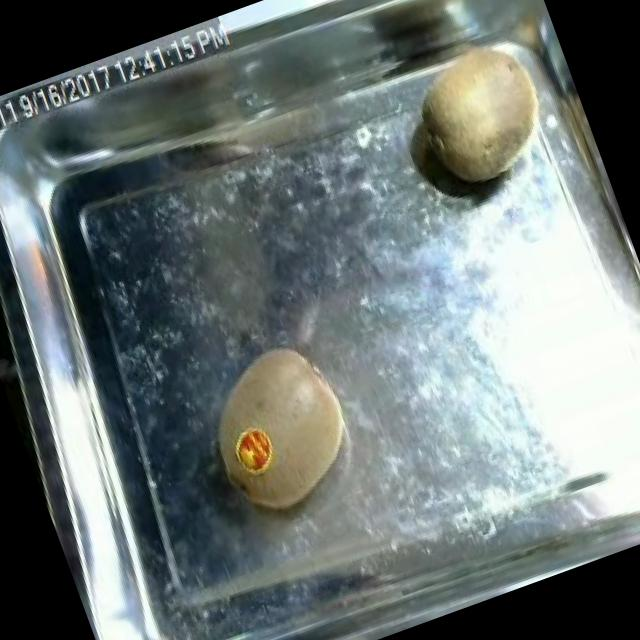Fruit: (179, 320, 383, 539), (387, 11, 579, 210)
